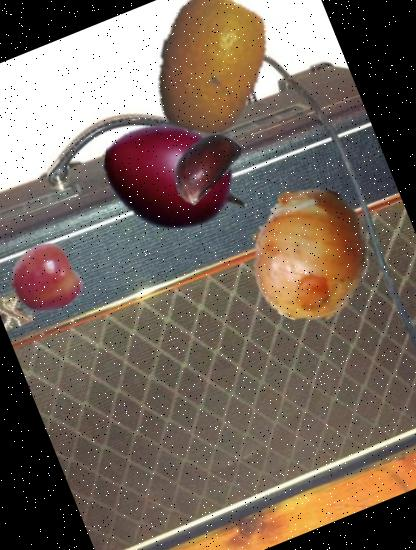Cherry: (0, 234, 90, 324)
Chestnut: (151, 111, 256, 216)
Kumquats: (116, 0, 303, 155)
Onion: (221, 166, 395, 340)
Tamarillo: (80, 83, 272, 274)
